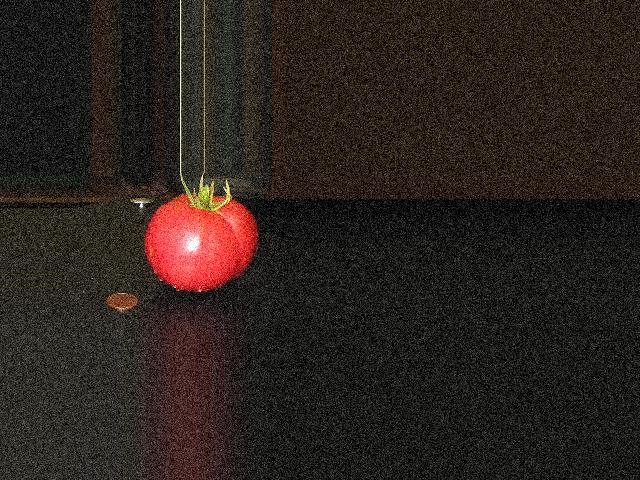tomato: (145, 194, 259, 292)
